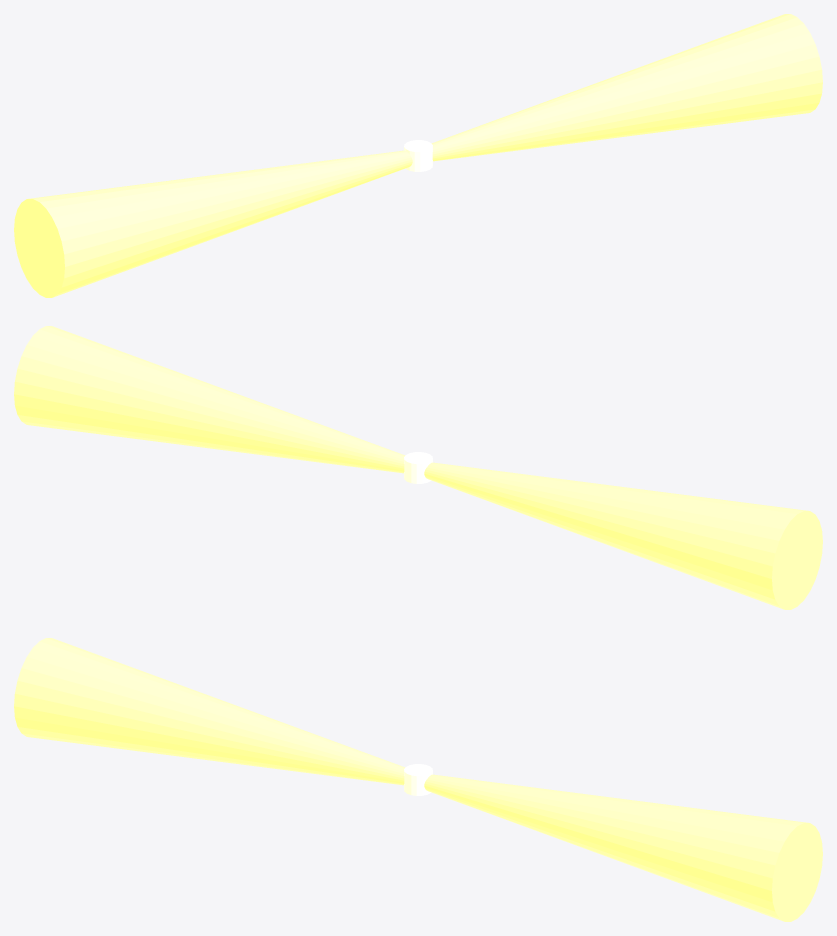
The model's file is 31_lighthouse_beacon.glb.
3 views of the same model, one above another, from view 1: azimuth 30°, elevation 25°; view 2: azimuth 150°, elevation 25°; view 3: azimuth 330°, elevation 25° (orthographic).
Visible parts, largest first — view 1: lighthouse_beacon_west_nocol_noshadow, lighthouse_beacon_east_nocol_noshadow, lighthouse_beacon_flare_nocol_noshadow; view 2: lighthouse_beacon_west_nocol_noshadow, lighthouse_beacon_east_nocol_noshadow, lighthouse_beacon_flare_nocol_noshadow; view 3: lighthouse_beacon_east_nocol_noshadow, lighthouse_beacon_west_nocol_noshadow, lighthouse_beacon_flare_nocol_noshadow.
Boxes of the visible parts, bbox=[...] form: lighthouse_beacon_west_nocol_noshadow: bbox=[14, 150, 412, 297]; lighthouse_beacon_east_nocol_noshadow: bbox=[431, 14, 822, 161]; lighthouse_beacon_flare_nocol_noshadow: bbox=[404, 140, 432, 171]; lighthouse_beacon_west_nocol_noshadow: bbox=[424, 462, 822, 609]; lighthouse_beacon_east_nocol_noshadow: bbox=[14, 326, 405, 473]; lighthouse_beacon_flare_nocol_noshadow: bbox=[404, 452, 432, 483]; lighthouse_beacon_east_nocol_noshadow: bbox=[424, 774, 822, 921]; lighthouse_beacon_west_nocol_noshadow: bbox=[14, 638, 405, 785]; lighthouse_beacon_flare_nocol_noshadow: bbox=[404, 764, 432, 795].
Bounding box in the file's own units: 240 × 28 × 28.
